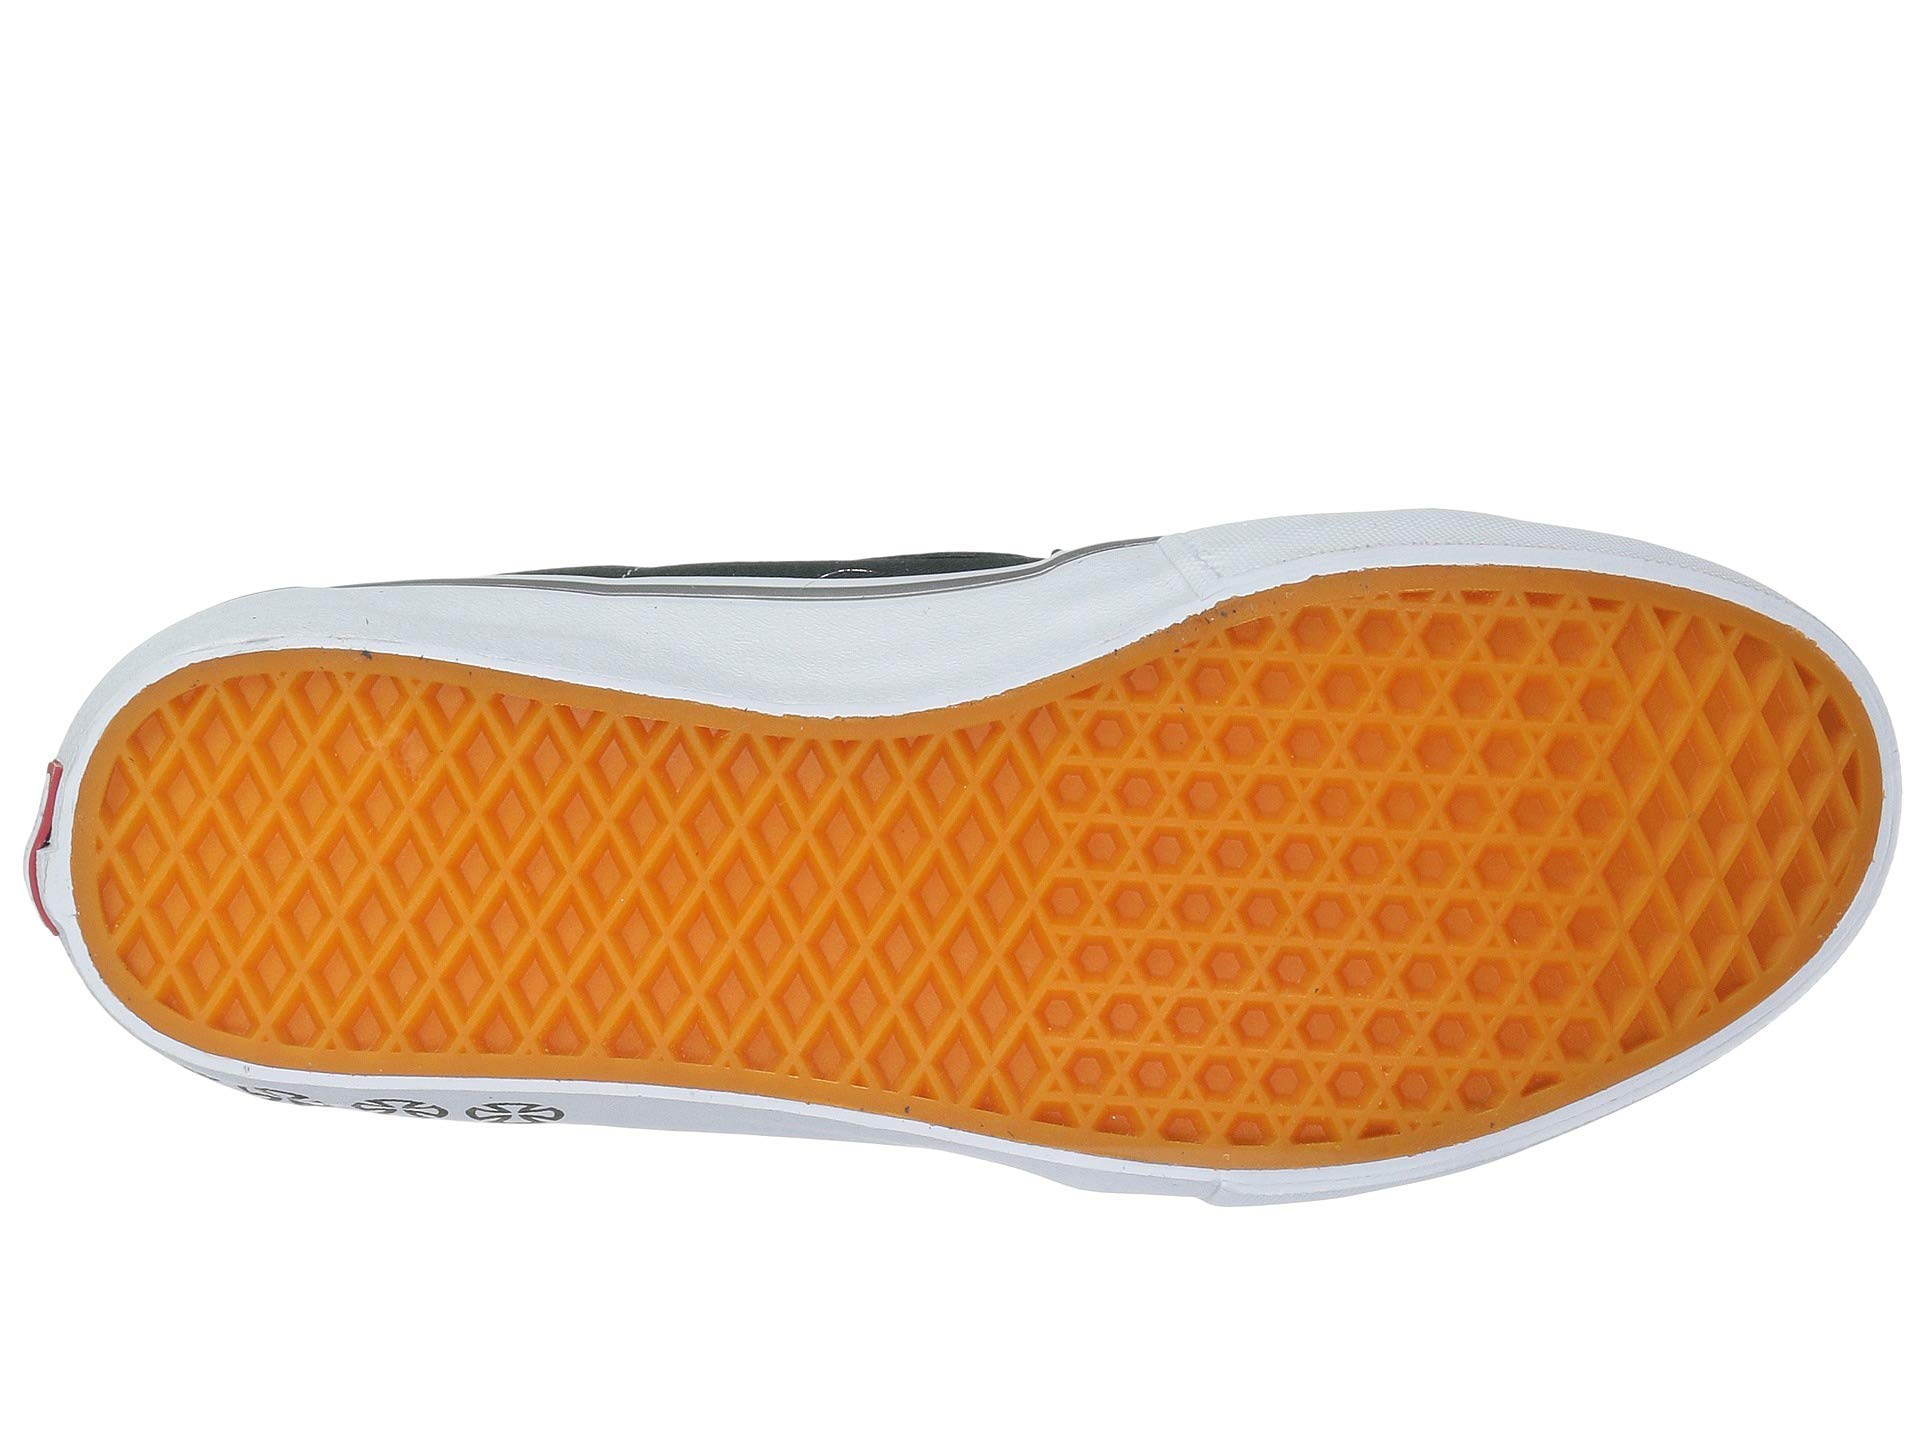line: (181, 709, 1011, 1041), (1132, 647, 1584, 1091)
polygon: (1132, 647, 1584, 1091)
quad: (181, 709, 1011, 1041)
triangle: (1132, 647, 1584, 1091)
